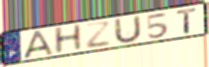5: (146, 11, 170, 40)
A: (22, 29, 55, 60)
H: (52, 23, 84, 56)
T: (175, 6, 199, 35)
U: (113, 14, 143, 46)
Z: (84, 20, 112, 50)
